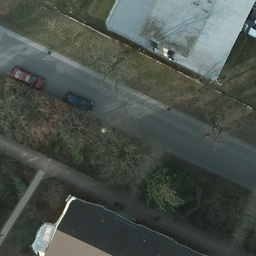car: (10, 69, 46, 90), (66, 93, 93, 115)
